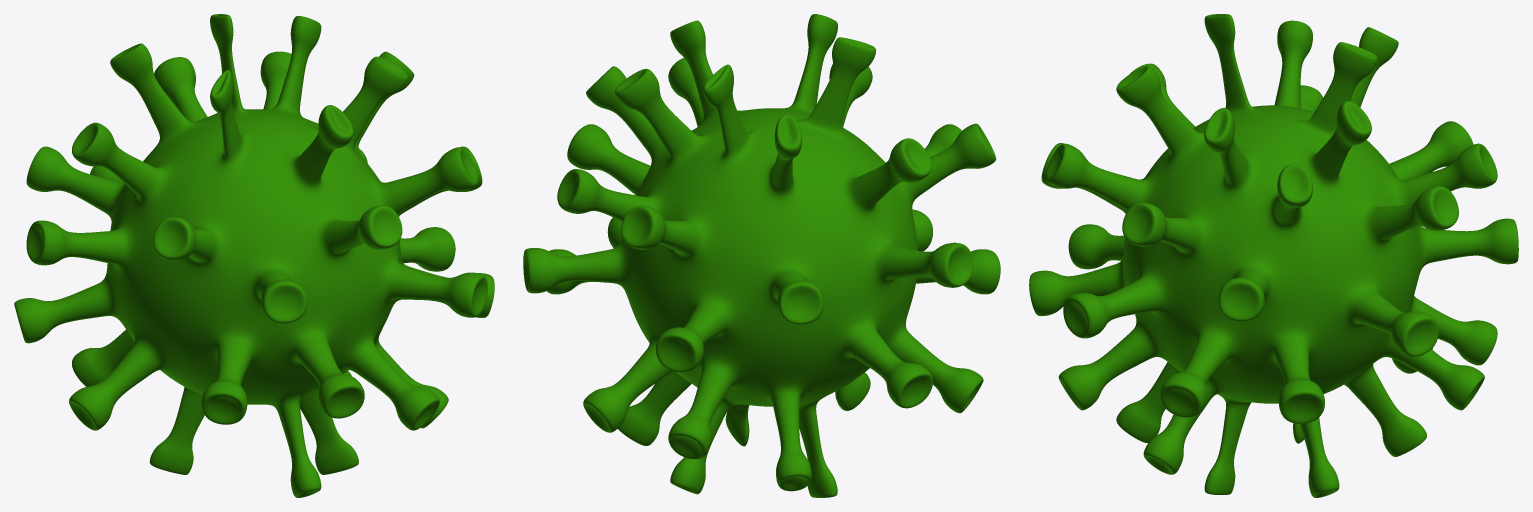
File: virus.glb
3 renders of one model, left to right at view 1: azimuth 30°, elevation 25°; view 2: azimuth 150°, elevation 25°; view 3: azimuth 270°, elevation 25°, orthographic.
Parts seen in each view (by area): view 1: Object_2; view 2: Object_2; view 3: Object_2.
Boxes of the visible parts, <box> form: Object_2: <box>14,14,494,497</box>; Object_2: <box>523,14,1000,497</box>; Object_2: <box>1029,14,1518,497</box>.
Size of the model in its own units: 3.22 by 3.16 by 3.25.
